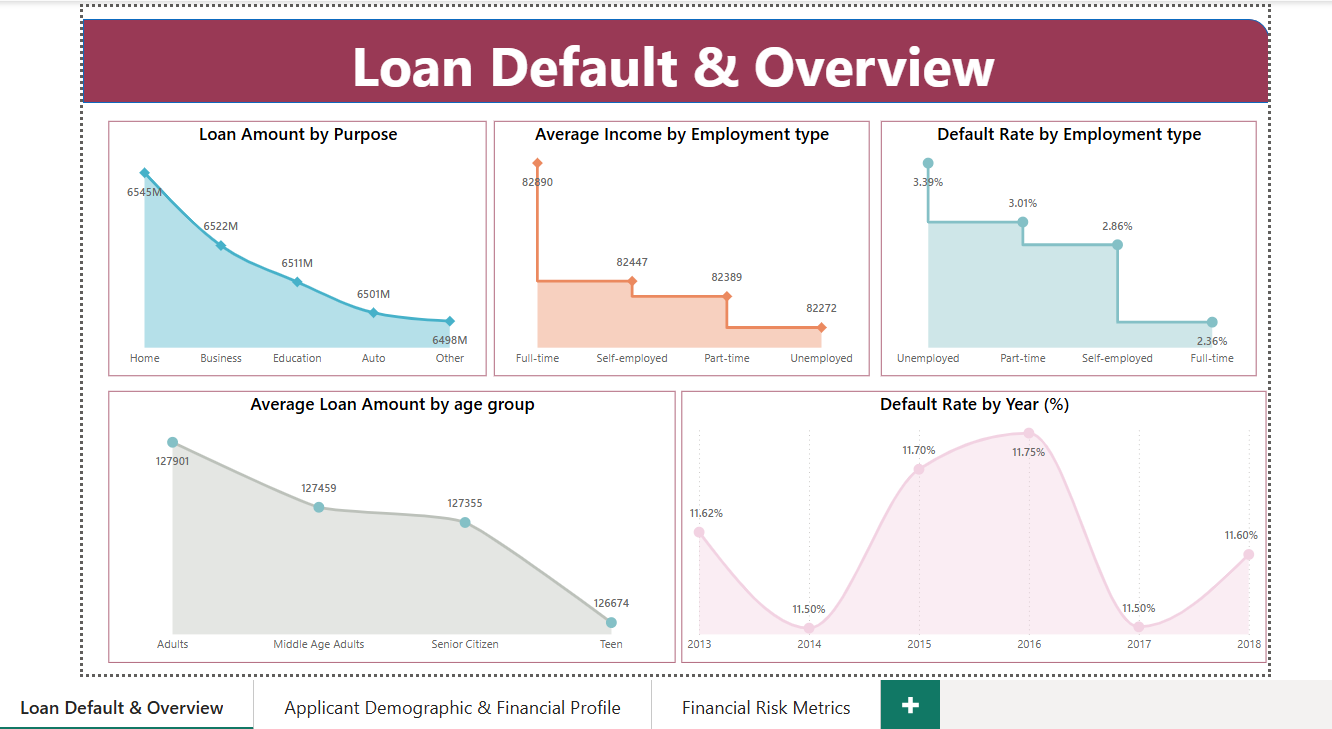

This screenshot's page, from the dashboard's own definition file:
{"tool":"powerbi","page":{"name":"Loan Default & Overview","canvas":[1280,720],"ordinal":0},"visuals":[{"type":"shape","box":[0,13,1280.8,90.7],"z":0},{"type":"lineChart","title":"Loan Amount by Purpose","fields":{"Category":["Loan_default.LoanPurpose"],"Y":["MeasureTable-1.Loan Amount by purpose"]},"box":[27.5,123.1,408,275],"z":1000},{"type":"lineChart","title":"Average Income by Employment type","fields":{"Y":["MeasureTable-1.Average Income by Employment type"],"Category":["Loan_default.EmploymentType"]},"box":[443.7,123.1,405,275],"z":2000},{"type":"lineChart","title":"Default Rate by Employment type","fields":{"Y":["MeasureTable-1.Default Rate by Employment Type"],"Category":["Loan_default.EmploymentType"]},"box":[861.4,123.1,405,275],"z":3000},{"type":"lineChart","title":"Average Loan Amount by age group","fields":{"Category":["Loan_default.Age Group"],"Y":["MeasureTable-1.Average Loan by Age group"]},"box":[27.5,414.5,612.1,293.1],"z":4000},{"type":"lineChart","title":"Default Rate by Year (%)","fields":{"Category":["Loan_default.Year"],"Y":["MeasureTable-1.Default Rate by Year"]},"box":[646.1,414.5,631.5,293.1],"z":5000}]}

Visuals, with their boxes on the page's 1280x720 design canvas (x1, y1, x2, y2). These are canvas units, not pixel positions in the 1332x729 screenshot, which may show the page scaled, cropped or inside an application window:
shape: box=[0, 13, 1281, 104]
"Loan Amount by Purpose" lineChart: box=[28, 123, 436, 398]
"Average Income by Employment type" lineChart: box=[444, 123, 849, 398]
"Default Rate by Employment type" lineChart: box=[861, 123, 1266, 398]
"Average Loan Amount by age group" lineChart: box=[28, 414, 640, 708]
"Default Rate by Year (%)" lineChart: box=[646, 414, 1278, 708]
